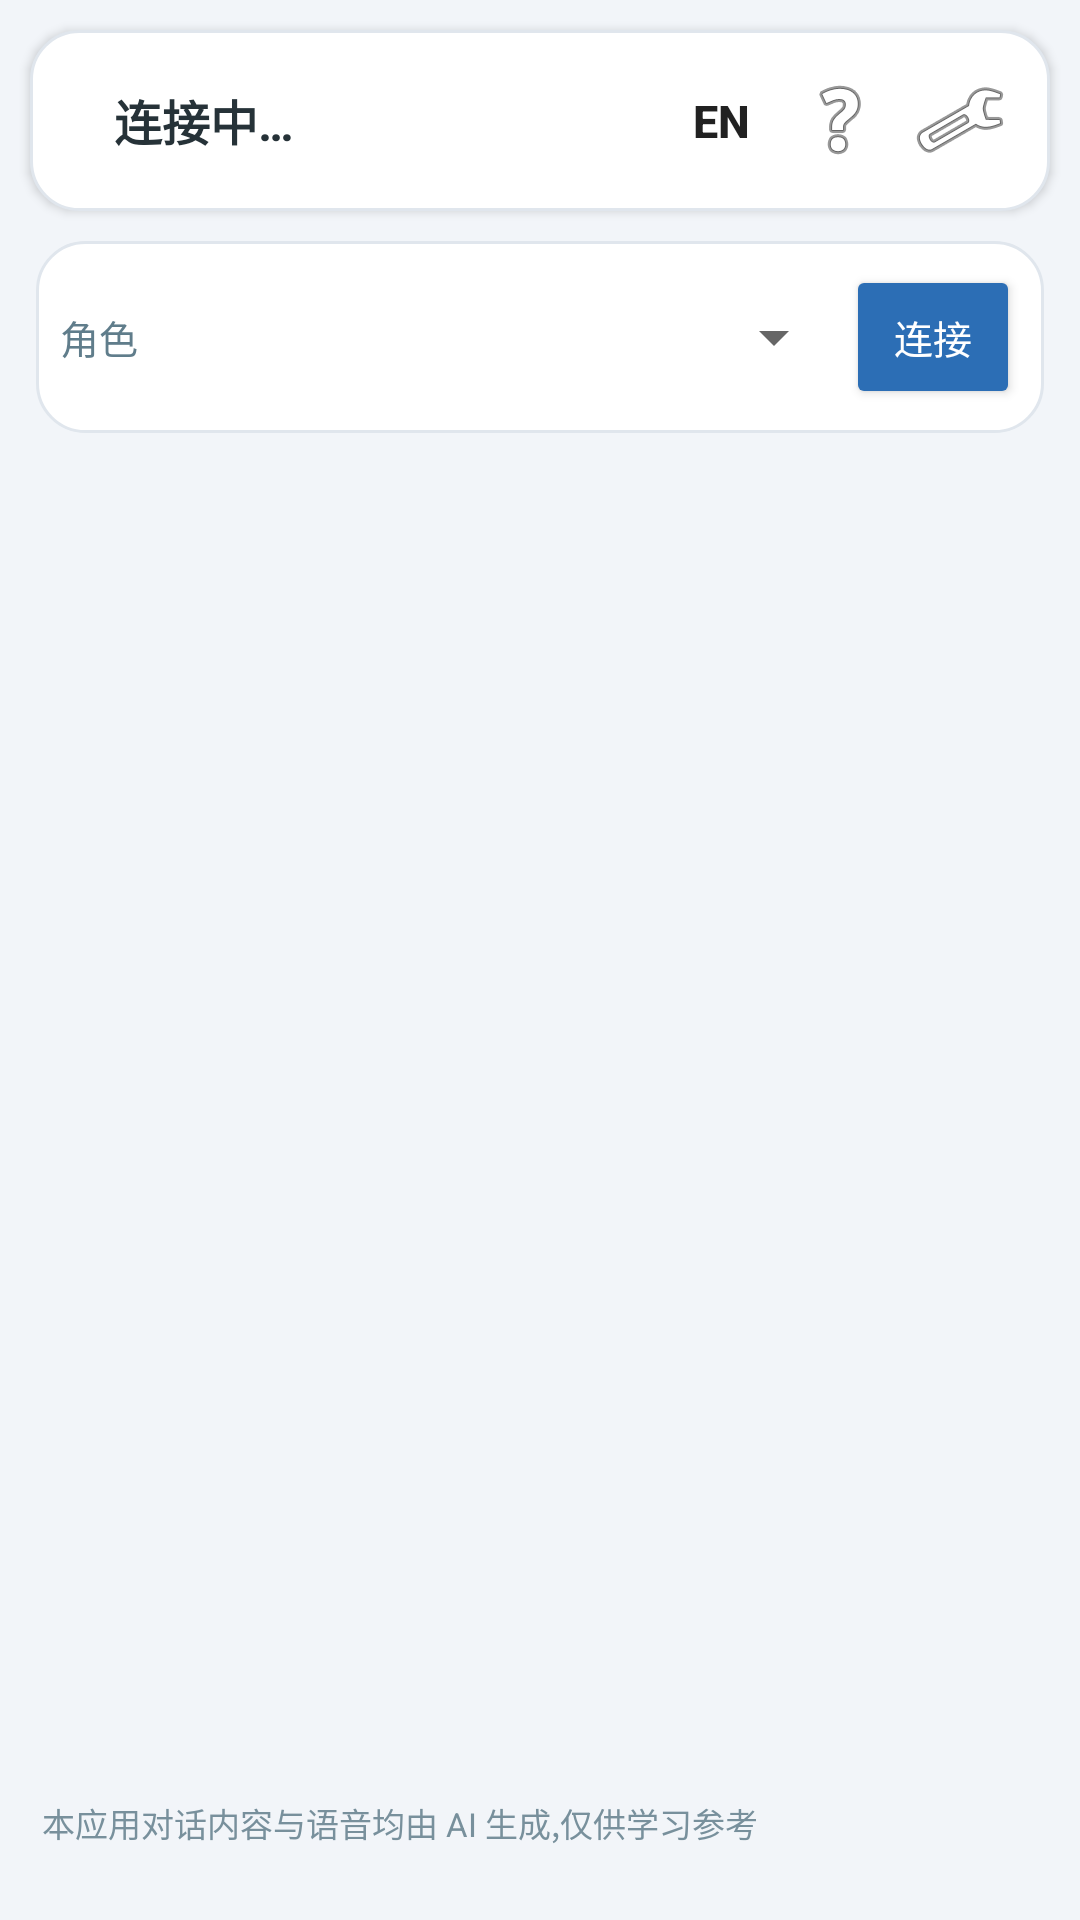

Point at icon controls on the screen. Image size 1080x1920, points as (x,y).
使用说明: (840,120)
设置: (960,120)
